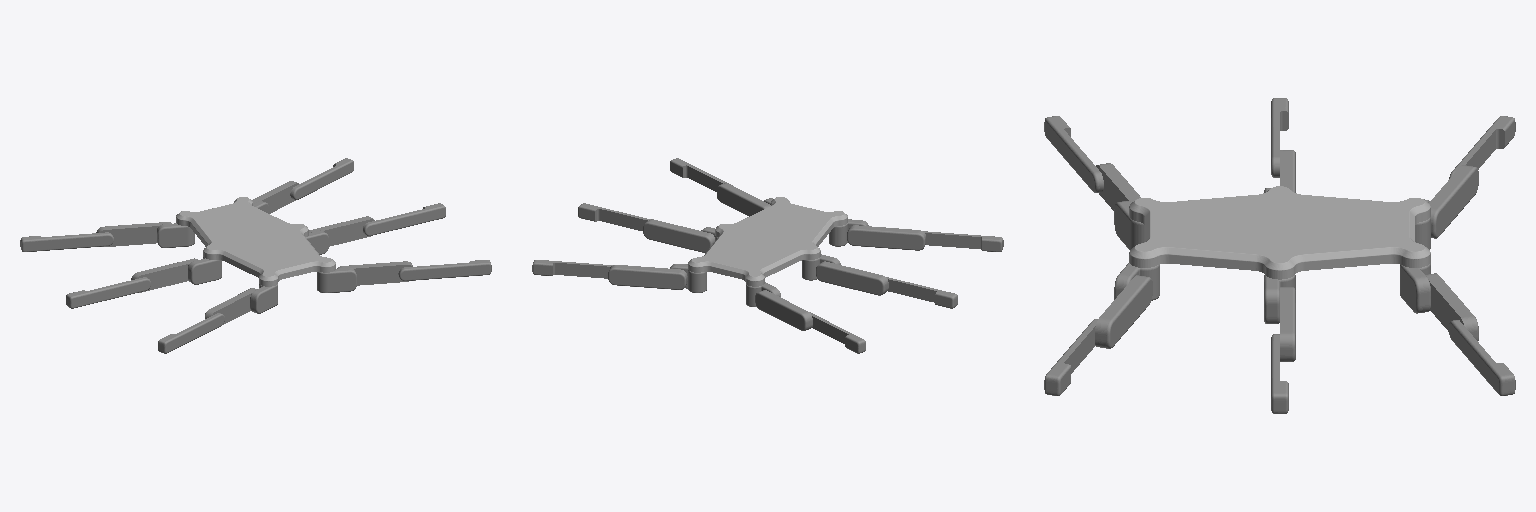
URDF robot description (hexapod_mkii_mock_assy):
<!--URDF generated by ONSHAPE BY PTC INC, 1.219-->
<robot name="hexapod_mkii_mock_assy">
    <link name="body_mock">
        <inertial>
            <mass value="0.00195775" />
            <origin xyz="6.44879e-08 1.28e-08 -0.0116983" rpy="0 -0 0" />
            <inertia ixx="2.59437e-05" ixy="-2.1763e-12" ixz="-1.79193e-15" iyy="7.65499e-06" iyz="1.07157e-14" izz="3.34295e-05" />
        </inertial>
        <visual>
            <origin xyz="6.39042e-08 1.35941e-08 -0.023" rpy="0 -0 0" />
            <geometry>
                <mesh filename="package://hexapod_mkii_mock_assy/meshes/BODY_MOCK.stl" scale="1 1 1" />
            </geometry>
            <material name="0.701961_0.701961_0.701961_0.000000_0.000000">
                <color rgba="0.701961 0.701961 0.701961 1" />
            </material>
        </visual>
    </link>
    <link name="coxa">
        <inertial>
            <mass value="0.000158859" />
            <origin xyz="-0.0181105 0.00503134 0.02825" rpy="0 -0 1.5708" />
            <inertia ixx="6.11445e-08" ixy="1.92369e-08" ixz="-1.93861e-14" iyy="1.41649e-07" iyz="7.9411e-15" izz="1.21888e-07" />
        </inertial>
        <visual>
            <origin xyz="0 0 0" rpy="0 -0 1.5708" />
            <geometry>
                <mesh filename="package://hexapod_mkii_mock_assy/meshes/Coxa.stl" scale="1 1 1" />
            </geometry>
            <material name="0.600000_0.600000_0.600000_0.000000_0.000000">
                <color rgba="0.6 0.6 0.6 1" />
            </material>
        </visual>
    </link>
    <link name="coxa_1">
        <inertial>
            <mass value="0.000158859" />
            <origin xyz="0.0152975 -0.0109221 -0.02825" rpy="0 0 -1.91986" />
            <inertia ixx="8.29271e-08" ixy="4.061e-08" ixz="1.5501e-14" iyy="1.19867e-07" iyz="-1.40926e-14" izz="1.21888e-07" />
        </inertial>
        <visual>
            <origin xyz="0 0 -0.0565" rpy="0 0 -1.91986" />
            <geometry>
                <mesh filename="package://hexapod_mkii_mock_assy/meshes/Coxa.stl" scale="1 1 1" />
            </geometry>
            <material name="0.600000_0.600000_0.600000_0.000000_0.000000">
                <color rgba="0.6 0.6 0.6 1" />
            </material>
        </visual>
    </link>
    <link name="coxa_2">
        <inertial>
            <mass value="0.000158859" />
            <origin xyz="0.0187391 0.00146625 -0.02825" rpy="0 0 -1.22173" />
            <inertia ixx="5.81965e-08" ixy="-1.11374e-08" ixz="2.0933e-14" iyy="1.44597e-07" iyz="0" izz="1.21888e-07" />
        </inertial>
        <visual>
            <origin xyz="0 0 -0.0565" rpy="0 0 -1.22173" />
            <geometry>
                <mesh filename="package://hexapod_mkii_mock_assy/meshes/Coxa.stl" scale="1 1 1" />
            </geometry>
            <material name="0.600000_0.600000_0.600000_0.000000_0.000000">
                <color rgba="0.6 0.6 0.6 1" />
            </material>
        </visual>
    </link>
    <link name="coxa_3">
        <inertial>
            <mass value="0.000158859" />
            <origin xyz="-0.0152975 0.0109221 0.02825" rpy="0 -0 1.22173" />
            <inertia ixx="8.29271e-08" ixy="4.061e-08" ixz="-1.5501e-14" iyy="1.19867e-07" iyz="1.40926e-14" izz="1.21888e-07" />
        </inertial>
        <visual>
            <origin xyz="0 0 0" rpy="0 -0 1.22173" />
            <geometry>
                <mesh filename="package://hexapod_mkii_mock_assy/meshes/Coxa.stl" scale="1 1 1" />
            </geometry>
            <material name="0.600000_0.600000_0.600000_0.000000_0.000000">
                <color rgba="0.6 0.6 0.6 1" />
            </material>
        </visual>
    </link>
    <link name="coxa_4">
        <inertial>
            <mass value="0.000158859" />
            <origin xyz="-0.0187391 -0.00146625 0.02825" rpy="0 -0 1.91986" />
            <inertia ixx="5.81965e-08" ixy="-1.11374e-08" ixz="-2.0933e-14" iyy="1.44597e-07" iyz="0" izz="1.21888e-07" />
        </inertial>
        <visual>
            <origin xyz="0 0 0" rpy="0 -0 1.91986" />
            <geometry>
                <mesh filename="package://hexapod_mkii_mock_assy/meshes/Coxa.stl" scale="1 1 1" />
            </geometry>
            <material name="0.600000_0.600000_0.600000_0.000000_0.000000">
                <color rgba="0.6 0.6 0.6 1" />
            </material>
        </visual>
    </link>
    <link name="coxa_5">
        <inertial>
            <mass value="0.000158859" />
            <origin xyz="0.0181105 -0.00503134 -0.02825" rpy="0 0 -1.5708" />
            <inertia ixx="6.11445e-08" ixy="1.92369e-08" ixz="1.93861e-14" iyy="1.41649e-07" iyz="-7.9411e-15" izz="1.21888e-07" />
        </inertial>
        <visual>
            <origin xyz="0 0 -0.0565" rpy="0 0 -1.5708" />
            <geometry>
                <mesh filename="package://hexapod_mkii_mock_assy/meshes/Coxa.stl" scale="1 1 1" />
            </geometry>
            <material name="0.600000_0.600000_0.600000_0.000000_0.000000">
                <color rgba="0.6 0.6 0.6 1" />
            </material>
        </visual>
    </link>
    <link name="femur">
        <inertial>
            <mass value="0.000194279" />
            <origin xyz="-0.0114033 0.0725 -4.3476e-12" rpy="0 -0 0" />
            <inertia ixx="5.89781e-07" ixy="0" ixz="0" iyy="4.10808e-08" iyz="6.31072e-14" izz="5.65586e-07" />
        </inertial>
        <visual>
            <origin xyz="0 -0.049 -0.02825" rpy="0 -0 0" />
            <geometry>
                <mesh filename="package://hexapod_mkii_mock_assy/meshes/Femur.stl" scale="1 1 1" />
            </geometry>
            <material name="0.600000_0.600000_0.600000_0.000000_0.000000">
                <color rgba="0.6 0.6 0.6 1" />
            </material>
        </visual>
    </link>
    <link name="femur_1">
        <inertial>
            <mass value="0.000194279" />
            <origin xyz="-0.0114033 0.0725 -4.3476e-12" rpy="0 -0 0" />
            <inertia ixx="5.89781e-07" ixy="0" ixz="0" iyy="4.10808e-08" iyz="6.31072e-14" izz="5.65586e-07" />
        </inertial>
        <visual>
            <origin xyz="0 -0.049 -0.02825" rpy="0 -0 0" />
            <geometry>
                <mesh filename="package://hexapod_mkii_mock_assy/meshes/Femur.stl" scale="1 1 1" />
            </geometry>
            <material name="0.600000_0.600000_0.600000_0.000000_0.000000">
                <color rgba="0.6 0.6 0.6 1" />
            </material>
        </visual>
    </link>
    <link name="femur_2">
        <inertial>
            <mass value="0.000194279" />
            <origin xyz="-0.0114033 0.0725 -4.3476e-12" rpy="0 -0 0" />
            <inertia ixx="5.89781e-07" ixy="0" ixz="0" iyy="4.10808e-08" iyz="6.31072e-14" izz="5.65586e-07" />
        </inertial>
        <visual>
            <origin xyz="0 -0.049 -0.02825" rpy="0 -0 0" />
            <geometry>
                <mesh filename="package://hexapod_mkii_mock_assy/meshes/Femur.stl" scale="1 1 1" />
            </geometry>
            <material name="0.600000_0.600000_0.600000_0.000000_0.000000">
                <color rgba="0.6 0.6 0.6 1" />
            </material>
        </visual>
    </link>
    <link name="femur_3">
        <inertial>
            <mass value="0.000194279" />
            <origin xyz="-0.0114033 0.0725 -4.3476e-12" rpy="0 -0 0" />
            <inertia ixx="5.89781e-07" ixy="0" ixz="0" iyy="4.10808e-08" iyz="6.31072e-14" izz="5.65586e-07" />
        </inertial>
        <visual>
            <origin xyz="0 -0.049 -0.02825" rpy="0 -0 0" />
            <geometry>
                <mesh filename="package://hexapod_mkii_mock_assy/meshes/Femur.stl" scale="1 1 1" />
            </geometry>
            <material name="0.600000_0.600000_0.600000_0.000000_0.000000">
                <color rgba="0.6 0.6 0.6 1" />
            </material>
        </visual>
    </link>
    <link name="femur_4">
        <inertial>
            <mass value="0.000194279" />
            <origin xyz="-0.0114033 0.0725 -4.3476e-12" rpy="0 -0 0" />
            <inertia ixx="5.89781e-07" ixy="0" ixz="0" iyy="4.10808e-08" iyz="6.31072e-14" izz="5.65586e-07" />
        </inertial>
        <visual>
            <origin xyz="0 -0.049 -0.02825" rpy="0 -0 0" />
            <geometry>
                <mesh filename="package://hexapod_mkii_mock_assy/meshes/Femur.stl" scale="1 1 1" />
            </geometry>
            <material name="0.600000_0.600000_0.600000_0.000000_0.000000">
                <color rgba="0.6 0.6 0.6 1" />
            </material>
        </visual>
    </link>
    <link name="femur_5">
        <inertial>
            <mass value="0.000194279" />
            <origin xyz="-0.0114033 0.0725 -4.3476e-12" rpy="0 -0 0" />
            <inertia ixx="5.89781e-07" ixy="0" ixz="0" iyy="4.10808e-08" iyz="6.31072e-14" izz="5.65586e-07" />
        </inertial>
        <visual>
            <origin xyz="0 -0.049 -0.02825" rpy="0 -0 0" />
            <geometry>
                <mesh filename="package://hexapod_mkii_mock_assy/meshes/Femur.stl" scale="1 1 1" />
            </geometry>
            <material name="0.600000_0.600000_0.600000_0.000000_0.000000">
                <color rgba="0.6 0.6 0.6 1" />
            </material>
        </visual>
    </link>
    <link name="leg_mock_subassy__1_" />
    <link name="leg_mock_subassy__2_" />
    <link name="leg_mock_subassy__3_" />
    <link name="leg_mock_subassy__4_" />
    <link name="leg_mock_subassy__5_" />
    <link name="leg_mock_subassy__6_" />
    <link name="root" />
    <link name="tibia">
        <inertial>
            <mass value="0.000110131" />
            <origin xyz="0.0039823 0.113983 7.03568e-10" rpy="0 -0 0" />
            <inertia ixx="5.04557e-07" ixy="1.7638e-08" ixz="-7.14474e-15" iyy="1.32072e-08" iyz="-3.65791e-15" izz="4.99348e-07" />
        </inertial>
        <visual>
            <origin xyz="0 -0.194 -0.02825" rpy="0 -0 0" />
            <geometry>
                <mesh filename="package://hexapod_mkii_mock_assy/meshes/Tibia.stl" scale="1 1 1" />
            </geometry>
            <material name="0.600000_0.600000_0.600000_0.000000_0.000000">
                <color rgba="0.6 0.6 0.6 1" />
            </material>
        </visual>
    </link>
    <link name="tibia_1">
        <inertial>
            <mass value="0.000110131" />
            <origin xyz="0.0039823 0.113983 7.03568e-10" rpy="0 -0 0" />
            <inertia ixx="5.04557e-07" ixy="1.7638e-08" ixz="-7.14474e-15" iyy="1.32072e-08" iyz="-3.65791e-15" izz="4.99348e-07" />
        </inertial>
        <visual>
            <origin xyz="0 -0.194 -0.02825" rpy="0 -0 0" />
            <geometry>
                <mesh filename="package://hexapod_mkii_mock_assy/meshes/Tibia.stl" scale="1 1 1" />
            </geometry>
            <material name="0.600000_0.600000_0.600000_0.000000_0.000000">
                <color rgba="0.6 0.6 0.6 1" />
            </material>
        </visual>
    </link>
    <link name="tibia_2">
        <inertial>
            <mass value="0.000110131" />
            <origin xyz="0.0039823 0.113983 7.03568e-10" rpy="0 -0 0" />
            <inertia ixx="5.04557e-07" ixy="1.7638e-08" ixz="-7.14474e-15" iyy="1.32072e-08" iyz="-3.65791e-15" izz="4.99348e-07" />
        </inertial>
        <visual>
            <origin xyz="0 -0.194 -0.02825" rpy="0 -0 0" />
            <geometry>
                <mesh filename="package://hexapod_mkii_mock_assy/meshes/Tibia.stl" scale="1 1 1" />
            </geometry>
            <material name="0.600000_0.600000_0.600000_0.000000_0.000000">
                <color rgba="0.6 0.6 0.6 1" />
            </material>
        </visual>
    </link>
    <link name="tibia_3">
        <inertial>
            <mass value="0.000110131" />
            <origin xyz="0.0039823 0.113983 7.03568e-10" rpy="0 -0 0" />
            <inertia ixx="5.04557e-07" ixy="1.7638e-08" ixz="-7.14474e-15" iyy="1.32072e-08" iyz="-3.65791e-15" izz="4.99348e-07" />
        </inertial>
        <visual>
            <origin xyz="0 -0.194 -0.02825" rpy="0 -0 0" />
            <geometry>
                <mesh filename="package://hexapod_mkii_mock_assy/meshes/Tibia.stl" scale="1 1 1" />
            </geometry>
            <material name="0.600000_0.600000_0.600000_0.000000_0.000000">
                <color rgba="0.6 0.6 0.6 1" />
            </material>
        </visual>
    </link>
    <link name="tibia_4">
        <inertial>
            <mass value="0.000110131" />
            <origin xyz="0.0039823 0.113983 7.03568e-10" rpy="0 -0 0" />
            <inertia ixx="5.04557e-07" ixy="1.7638e-08" ixz="-7.14474e-15" iyy="1.32072e-08" iyz="-3.65791e-15" izz="4.99348e-07" />
        </inertial>
        <visual>
            <origin xyz="0 -0.194 -0.02825" rpy="0 -0 0" />
            <geometry>
                <mesh filename="package://hexapod_mkii_mock_assy/meshes/Tibia.stl" scale="1 1 1" />
            </geometry>
            <material name="0.600000_0.600000_0.600000_0.000000_0.000000">
                <color rgba="0.6 0.6 0.6 1" />
            </material>
        </visual>
    </link>
    <link name="tibia_5">
        <inertial>
            <mass value="0.000110131" />
            <origin xyz="0.0039823 0.113983 7.03568e-10" rpy="0 -0 0" />
            <inertia ixx="5.04557e-07" ixy="1.7638e-08" ixz="-7.14474e-15" iyy="1.32072e-08" iyz="-3.65791e-15" izz="4.99348e-07" />
        </inertial>
        <visual>
            <origin xyz="0 -0.194 -0.02825" rpy="0 -0 0" />
            <geometry>
                <mesh filename="package://hexapod_mkii_mock_assy/meshes/Tibia.stl" scale="1 1 1" />
            </geometry>
            <material name="0.600000_0.600000_0.600000_0.000000_0.000000">
                <color rgba="0.6 0.6 0.6 1" />
            </material>
        </visual>
    </link>
    <joint name="fastened_1" type="fixed">
        <origin xyz="0.0177927 -0.00989231 6.93889e-18" rpy="-9.34564e-17 -2.29187e-16 -1.91986" />
        <axis xyz="-0 -0 -1" />
        <parent link="coxa_1" />
        <child link="leg_mock_subassy__1_" />
    </joint>
    <joint name="fastened_1_1" type="fixed">
        <origin xyz="-0.0201031 0.00321026 0.0565" rpy="-1.87103e-17 1.0323e-31 1.5708" />
        <axis xyz="-0 -0 -1" />
        <parent link="coxa" />
        <child link="leg_mock_subassy__6_" />
    </joint>
    <joint name="fastened_1_2" type="fixed">
        <origin xyz="-0.0199887 -0.00385899 0.0565" rpy="9.02544e-17 1.75519e-16 1.91986" />
        <axis xyz="-0 -0 -1" />
        <parent link="coxa_4" />
        <child link="leg_mock_subassy__3_" />
    </joint>
    <joint name="fastened_1_3" type="fixed">
        <origin xyz="-0.0177927 0.00989231 0.0565" rpy="-3.36891e-17 -1.09085e-30 1.22173" />
        <axis xyz="-0 -0 -1" />
        <parent link="coxa_3" />
        <child link="leg_mock_subassy__5_" />
    </joint>
    <joint name="fastened_1_4" type="fixed">
        <origin xyz="0.0201031 -0.00321026 3.46945e-18" rpy="-1.17299e-16 -2.79788e-16 -1.5708" />
        <axis xyz="-0 -0 -1" />
        <parent link="coxa_5" />
        <child link="leg_mock_subassy__2_" />
    </joint>
    <joint name="fastened_1_5" type="fixed">
        <origin xyz="0.0199887 0.00385899 4.54498e-16" rpy="7.72051e-19 -3.98925e-18 -1.22173" />
        <axis xyz="-0 -0 -1" />
        <parent link="coxa_2" />
        <child link="leg_mock_subassy__4_" />
    </joint>
    <joint name="fastened_1_6" type="fixed">
        <origin xyz="-1.40788e-17 -7.48581e-18 0" rpy="-8.14173e-18 1.84889e-32 -2.15647e-34" />
        <axis xyz="-0 -0 -1" />
        <parent link="root" />
        <child link="body_mock" />
    </joint>
    <joint name="revolute_1" type="revolute">
        <origin xyz="0.0448405 -0.0163206 -0.02825" rpy="-6.75503e-16 2.95823e-31 -1.91986" />
        <axis xyz="1 -0 -0" />
        <parent link="coxa_1" />
        <child link="femur_1" />
        <limit effort="1" velocity="1" lower="0" upper="1.74533" />
    </joint>
    <joint name="revolute_1_1" type="revolute">
        <origin xyz="0.0800001 -0.2 -0.023" rpy="5.10553e-17 -3.8758e-17 -9.31532e-34" />
        <axis xyz="0 0 1" />
        <parent link="body_mock" />
        <child link="coxa_1" />
        <limit effort="1" velocity="1" lower="-0.872665" upper="0.872665" />
    </joint>
    <joint name="revolute_1_2" type="revolute">
        <origin xyz="-0.0477183 -6.38086e-17 0.02825" rpy="5.86611e-16 -3.40775e-16 1.5708" />
        <axis xyz="-1 0 0" />
        <parent link="coxa" />
        <child link="femur" />
        <limit effort="1" velocity="1" lower="0" upper="1.74533" />
    </joint>
    <joint name="revolute_1_3" type="revolute">
        <origin xyz="-0.0448405 -0.0163206 0.02825" rpy="3.44502e-18 -1.44637e-31 1.91986" />
        <axis xyz="-1 0 0" />
        <parent link="coxa_4" />
        <child link="femur_4" />
        <limit effort="1" velocity="1" lower="0" upper="1.74533" />
    </joint>
    <joint name="revolute_1_4" type="revolute">
        <origin xyz="-0.0448405 0.0163206 0.02825" rpy="3.54949e-17 2.36786e-16 1.22173" />
        <axis xyz="-1 0 0" />
        <parent link="coxa_3" />
        <child link="femur_3" />
        <limit effort="1" velocity="1" lower="0" upper="1.74533" />
    </joint>
    <joint name="revolute_1_5" type="revolute">
        <origin xyz="0.0477183 5.0435e-15 -0.02825" rpy="-1.48561e-14 -3.09486e-17 -1.5708" />
        <axis xyz="1 -0 -0" />
        <parent link="coxa_5" />
        <child link="femur_5" />
        <limit effort="1" velocity="1" lower="0" upper="1.74533" />
    </joint>
    <joint name="revolute_1_6" type="revolute">
        <origin xyz="0.0448405 0.0163206 -0.02825" rpy="2.666e-16 1.54025e-24 -1.22173" />
        <axis xyz="1 -0 -0" />
        <parent link="coxa_2" />
        <child link="femur_2" />
        <limit effort="1" velocity="1" lower="0" upper="1.74533" />
    </joint>
    <joint name="revolute_1_7" type="revolute">
        <origin xyz="0.0800001 0.2 -0.023" rpy="6.52298e-17 -1.85886e-19 1.11022e-16" />
        <axis xyz="0 0 1" />
        <parent link="body_mock" />
        <child link="coxa_2" />
        <limit effort="1" velocity="1" lower="-0.872665" upper="0.872665" />
    </joint>
    <joint name="revolute_2" type="revolute">
        <origin xyz="-2.77556e-17 0.145 2.08167e-17" rpy="4.41801e-13 9.99532e-17 1.11022e-16" />
        <axis xyz="-1 -0 -0" />
        <parent link="femur_1" />
        <child link="tibia_1" />
        <limit effort="1" velocity="1" lower="0" upper="2.53073" />
    </joint>
    <joint name="revolute_2_1" type="revolute">
        <origin xyz="6.08915e-17 0.145 -6.93889e-18" rpy="5.88061e-16 -9.91245e-17 3.60822e-16" />
        <axis xyz="1 0 0" />
        <parent link="femur" />
        <child link="tibia" />
        <limit effort="1" velocity="1" lower="0" upper="2.53073" />
    </joint>
    <joint name="revolute_2_2" type="revolute">
        <origin xyz="-5.55112e-17 0.145 0" rpy="1.04667e-14 2.50886e-30 1.66533e-16" />
        <axis xyz="1 0 0" />
        <parent link="femur_4" />
        <child link="tibia_4" />
        <limit effort="1" velocity="1" lower="0" upper="2.53073" />
    </joint>
    <joint name="revolute_2_3" type="revolute">
        <origin xyz="-5.55112e-17 0.145 0" rpy="2.81321e-15 -9.85912e-17 -4.71845e-16" />
        <axis xyz="1 0 0" />
        <parent link="femur_3" />
        <child link="tibia_3" />
        <limit effort="1" velocity="1" lower="0" upper="2.53073" />
    </joint>
    <joint name="revolute_2_4" type="revolute">
        <origin xyz="1.50968e-16 0.145 -1.01308e-15" rpy="3.80251e-15 1.11681e-14 -5.61581e-16" />
        <axis xyz="-1 -0 -0" />
        <parent link="femur_5" />
        <child link="tibia_5" />
        <limit effort="1" velocity="1" lower="0" upper="2.53073" />
    </joint>
    <joint name="revolute_2_5" type="revolute">
        <origin xyz="0.12 1.35941e-08 -0.023" rpy="6.12323e-17 -3.66812e-18 8.84108e-35" />
        <axis xyz="0 0 1" />
        <parent link="body_mock" />
        <child link="coxa_5" />
        <limit effort="1" velocity="1" lower="-0.872665" upper="0.872665" />
    </joint>
    <joint name="revolute_2_6" type="revolute">
        <origin xyz="8.32667e-17 0.145 2.08167e-17" rpy="-4.59836e-15 1.17374e-16 -3.33067e-16" />
        <axis xyz="-1 -0 -0" />
        <parent link="femur_2" />
        <child link="tibia_2" />
        <limit effort="1" velocity="1" lower="0" upper="2.53073" />
    </joint>
    <joint name="revolute_3" type="revolute">
        <origin xyz="-0.0799999 0.2 -0.023" rpy="-3.14159 -4.61834e-17 -1.08891e-33" />
        <axis xyz="0 0 -1" />
        <parent link="body_mock" />
        <child link="coxa_4" />
        <limit effort="1" velocity="1" lower="-0.872665" upper="0.872665" />
    </joint>
    <joint name="revolute_4" type="revolute">
        <origin xyz="-0.0799999 -0.2 -0.023" rpy="-3.14159 4.77437e-17 -5.55112e-17" />
        <axis xyz="0 0 -1" />
        <parent link="body_mock" />
        <child link="coxa_3" />
        <limit effort="1" velocity="1" lower="-0.872665" upper="0.872665" />
    </joint>
    <joint name="revolute_5" type="revolute">
        <origin xyz="-0.12 1.35941e-08 -0.023" rpy="3.14159 -1.09778e-16 -5.55112e-17" />
        <axis xyz="0 0 -1" />
        <parent link="body_mock" />
        <child link="coxa" />
        <limit effort="1" velocity="1" lower="-0.872665" upper="0.872665" />
    </joint>
</robot>

--- Render facts (derived) ---
Views: 3 orthographic renders of the robot side by side, from view 1: azimuth 30°, elevation 25°; view 2: azimuth 150°, elevation 25°; view 3: azimuth 270°, elevation 25°.
Model hexapod_mkii_mock_assy with 26 links and 25 joints (18 revolute, 7 fixed), rooted at root, posed every joint at zero.
Visible links, largest first — view 1: body_mock, tibia_4, tibia_1, tibia, tibia_5, femur_4, femur_1, tibia_3, femur, tibia_2, femur_5, coxa_1 (+5 smaller); view 2: body_mock, femur_2, femur_3, femur, femur_5, femur_4, tibia_3, tibia_2, tibia, tibia_5, femur_1, tibia_4 (+1 smaller); view 3: body_mock, femur_1, femur_4, tibia_2, tibia_3, tibia_1, femur_2, tibia_4, coxa_2, femur_5, femur_3, tibia (+5 smaller).
Boxes of the visible links, x1,y1,x2,y2 form: body_mock: (176, 197, 335, 286); tibia_4: (20, 232, 113, 251); tibia_1: (398, 260, 491, 280); tibia: (66, 277, 150, 308); tibia_5: (363, 203, 445, 235); femur_4: (96, 222, 171, 246); femur_1: (337, 261, 412, 285); tibia_3: (158, 313, 224, 353); femur: (131, 258, 197, 292); tibia_2: (290, 158, 353, 199); femur_5: (309, 216, 374, 246); coxa_1: (317, 268, 356, 292); body_mock: (688, 197, 847, 286); femur_2: (608, 265, 687, 289); femur_3: (847, 225, 925, 250); femur: (816, 261, 888, 295); femur_5: (643, 219, 714, 252); femur_4: (755, 290, 812, 330); tibia_3: (923, 231, 1003, 251); tibia_2: (532, 260, 612, 278); tibia: (886, 277, 957, 308); tibia_5: (578, 203, 650, 230); femur_1: (717, 183, 770, 216); tibia_4: (810, 312, 865, 353); body_mock: (1129, 186, 1430, 279); femur_1: (1095, 275, 1152, 348); femur_4: (1429, 165, 1478, 238); tibia_2: (1449, 320, 1515, 395); tibia_3: (1044, 116, 1103, 192); tibia_1: (1044, 319, 1097, 395); femur_2: (1426, 273, 1478, 340); tibia_4: (1449, 116, 1515, 178); coxa_2: (1400, 263, 1430, 313); femur_5: (1280, 287, 1295, 361); femur_3: (1096, 163, 1140, 210); tibia: (1271, 98, 1288, 177).
Size in the robot's own frame: 1.05 by 0.697 by 0.0795 metres.
19 mesh visuals loaded from 4 distinct referenced files (4 binary STL).
